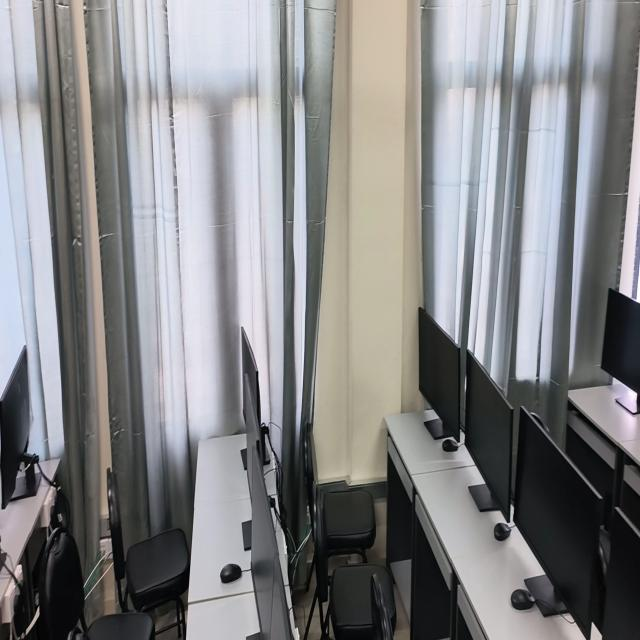Chair: (316, 478, 392, 638), (107, 463, 186, 594), (37, 553, 153, 640), (301, 434, 380, 546)
Monitor: (520, 407, 598, 578), (463, 348, 511, 508), (248, 449, 284, 640), (417, 297, 459, 443), (0, 360, 39, 500), (605, 257, 639, 403), (616, 510, 636, 640), (235, 318, 265, 376), (240, 378, 266, 440)
Mouse: (513, 574, 534, 621), (220, 552, 238, 597), (494, 506, 510, 554), (440, 435, 452, 457), (447, 451, 447, 456)
